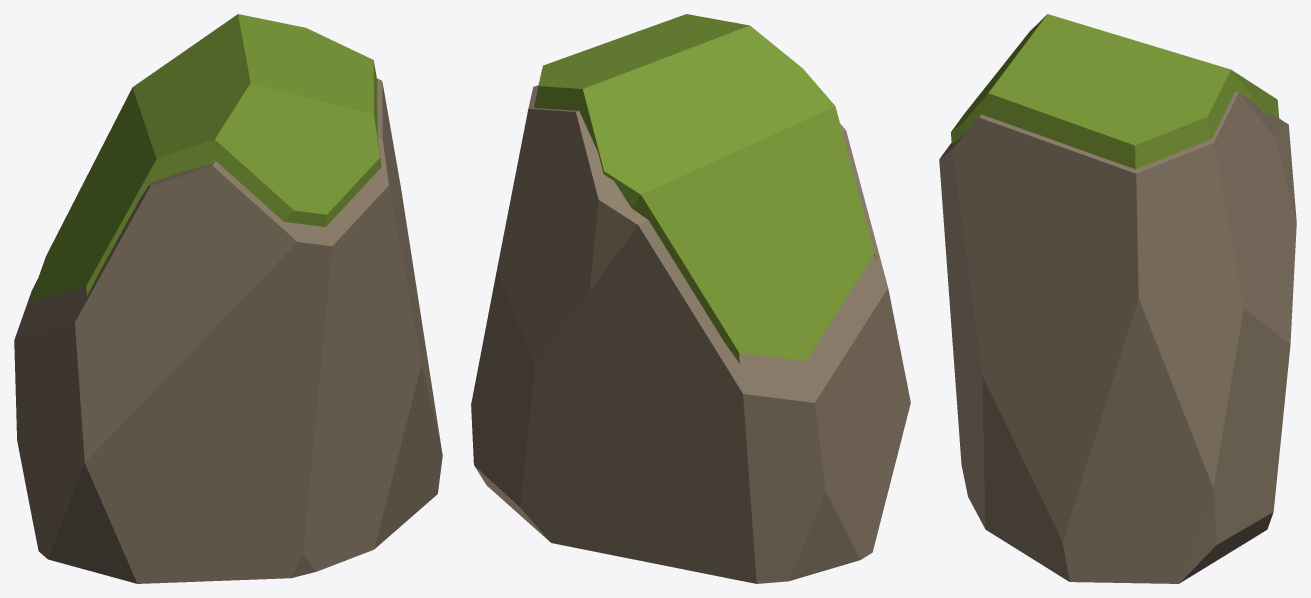
The model's file is Stone_5_moss_brown.fbx.
3 renders of one model, left to right at view 1: azimuth 30°, elevation 25°; view 2: azimuth 150°, elevation 25°; view 3: azimuth 270°, elevation 25°, orthographic. The views are drawn at different scales.
Parts seen in each view (by area): view 1: Stone_5_moss_brown; view 2: Stone_5_moss_brown; view 3: Stone_5_moss_brown.
Boxes of the visible parts, bbox=[...] form: Stone_5_moss_brown: bbox=[14, 14, 442, 583]; Stone_5_moss_brown: bbox=[471, 14, 910, 583]; Stone_5_moss_brown: bbox=[939, 14, 1296, 583].
Size of the model in its own units: 83.72 by 102 by 70.29.
